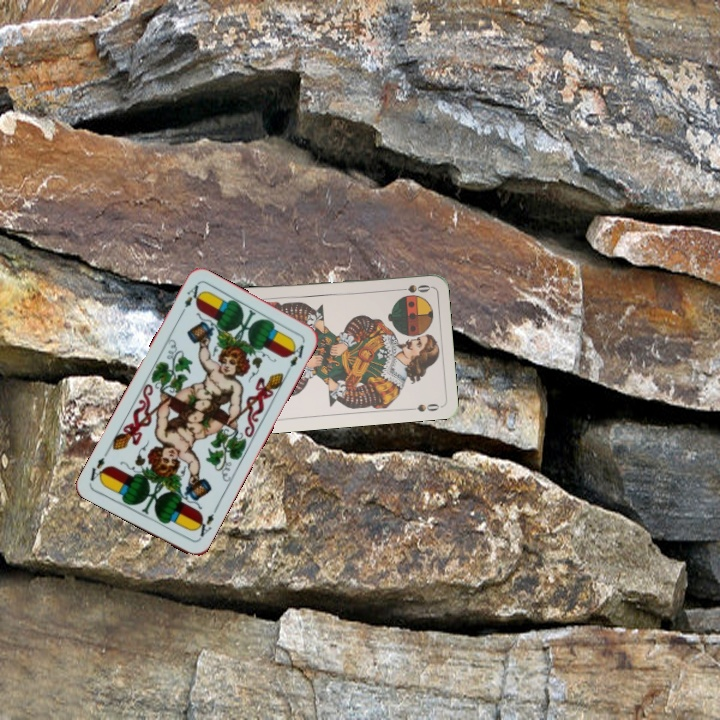EA: (191, 504, 220, 542), (176, 280, 203, 318)
SO: (392, 280, 432, 295)
